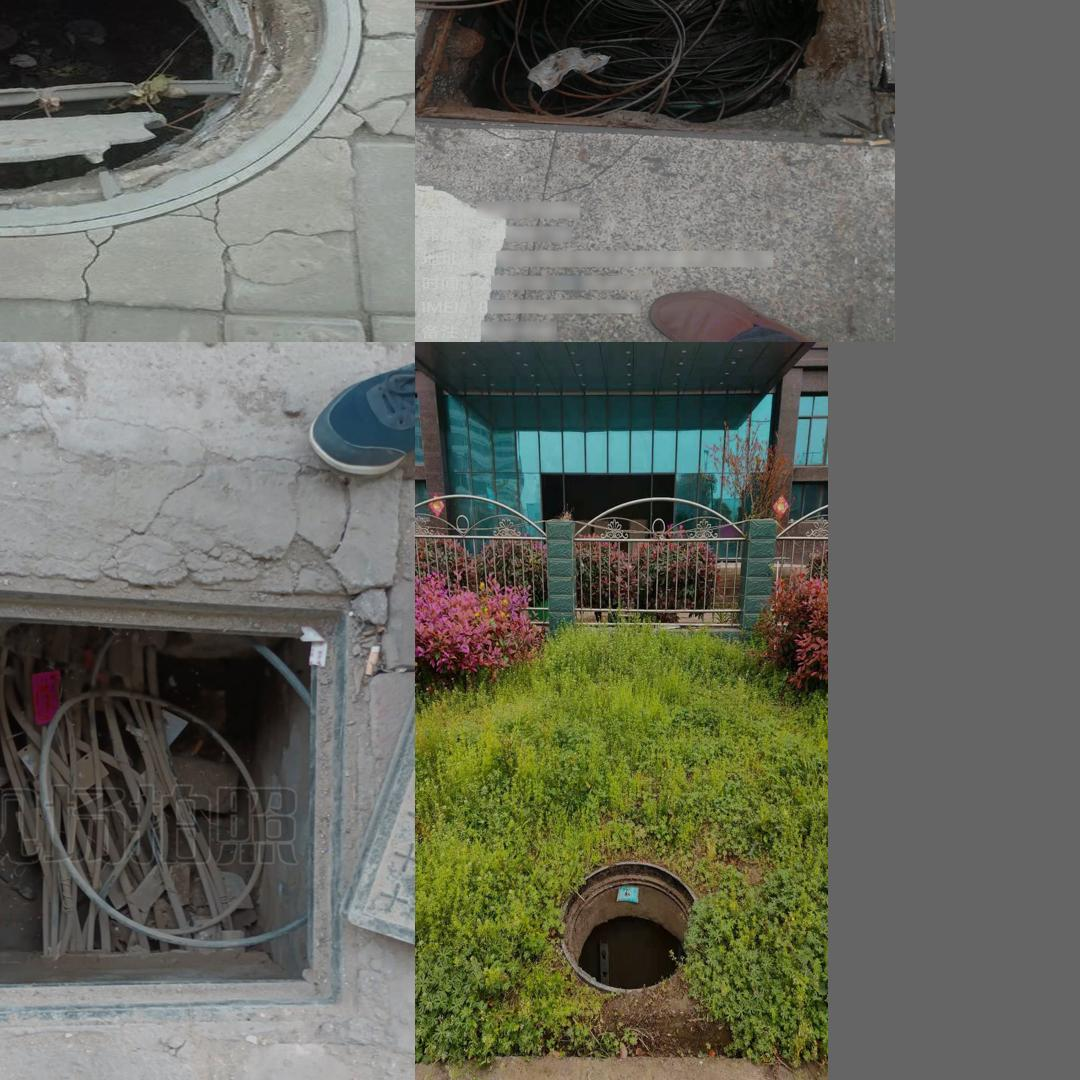lose: (0, 575, 355, 1030), (0, 0, 375, 232), (429, 0, 890, 169), (559, 858, 704, 993)
